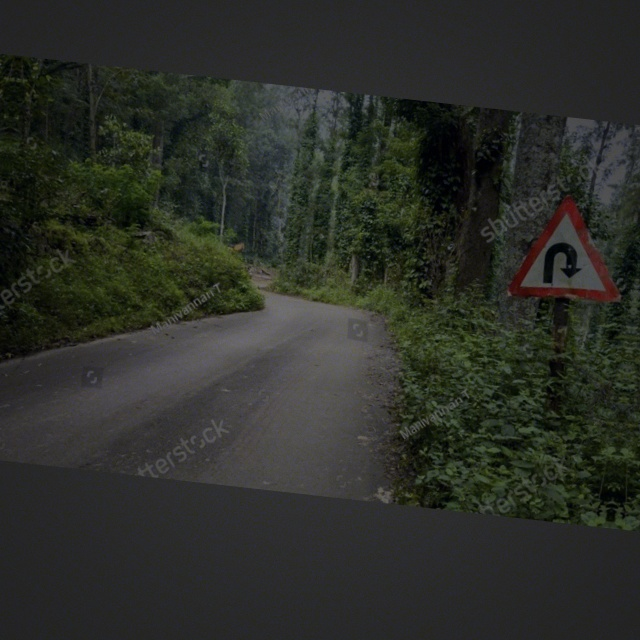Right_Hair_Pin_Bend: (508, 194, 627, 306)
